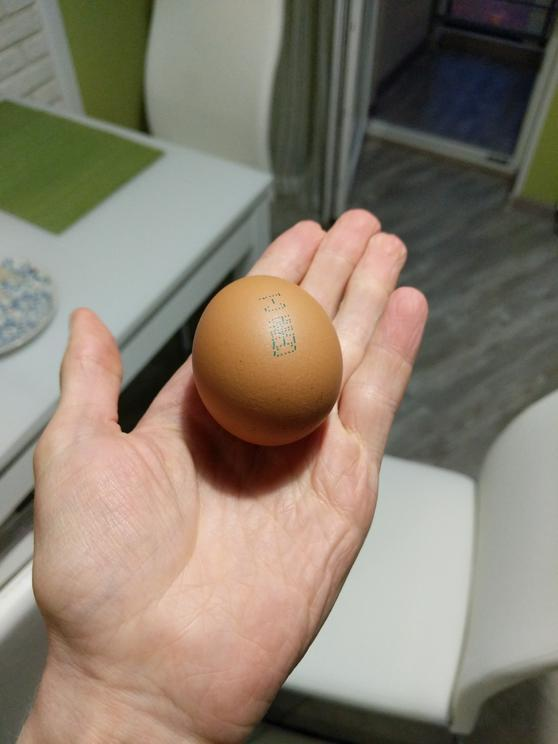egg: (180, 261, 352, 452)
